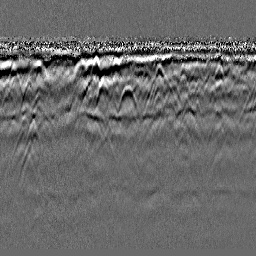cavity: (116, 84, 140, 118)
